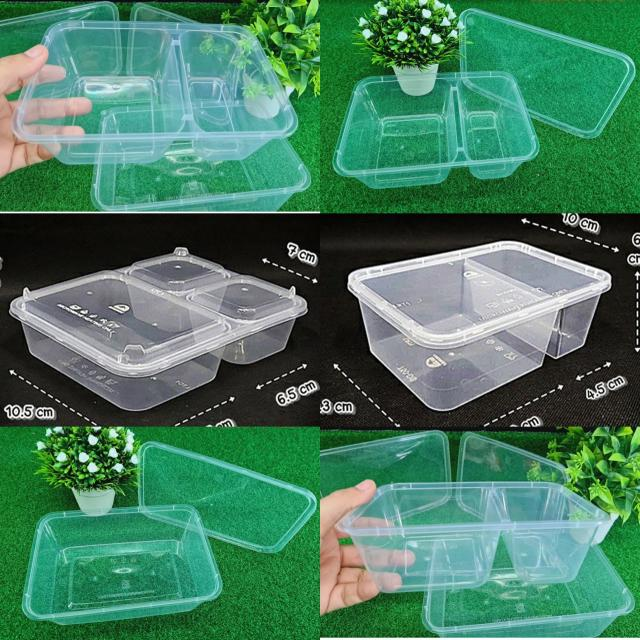Single-Use-Plastic: (9, 248, 308, 409), (348, 241, 610, 411), (14, 21, 298, 164), (339, 482, 605, 592), (333, 71, 539, 189), (23, 505, 221, 624), (459, 9, 635, 139), (422, 540, 634, 637), (139, 441, 316, 552), (91, 139, 310, 211), (320, 430, 452, 496), (457, 432, 568, 484)
